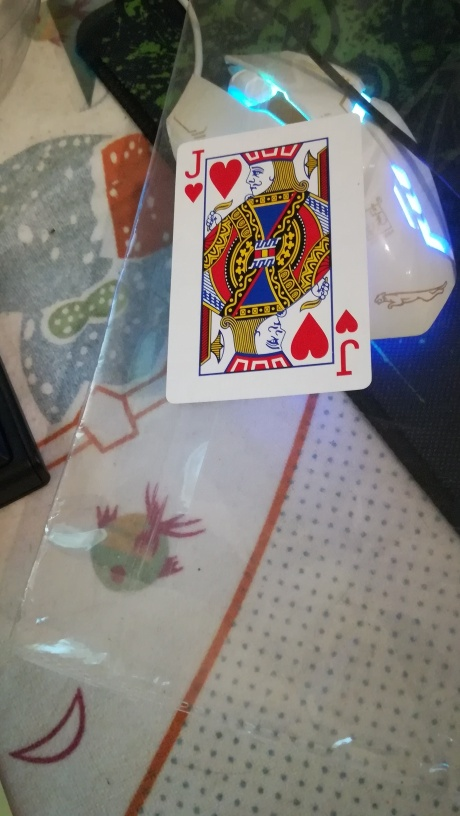hx j: (166, 110, 373, 402)
